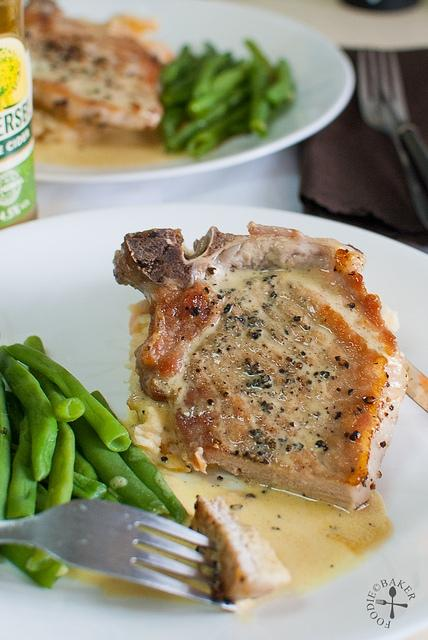green bean: (2, 342, 131, 452), (90, 390, 190, 524), (66, 416, 170, 518), (0, 344, 58, 482), (26, 419, 76, 572), (165, 76, 252, 150), (24, 336, 86, 422), (186, 98, 251, 158), (160, 44, 217, 111), (186, 60, 252, 116), (7, 406, 38, 519), (0, 543, 70, 589), (245, 42, 272, 136), (160, 45, 208, 94), (192, 52, 230, 100), (0, 380, 12, 520), (265, 61, 291, 106), (72, 471, 108, 500), (160, 105, 186, 144), (34, 482, 47, 516), (229, 118, 252, 136), (75, 441, 90, 463), (100, 491, 120, 503)
